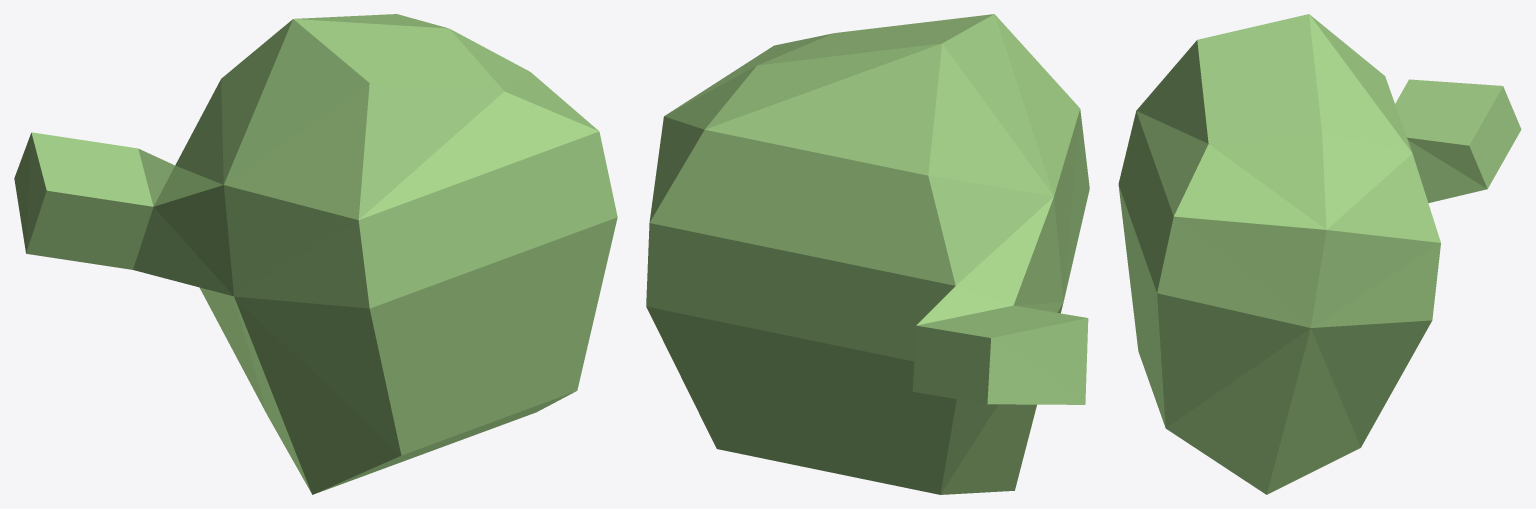
The picture shows the model from 3 angles, left to right: view 1: azimuth 30°, elevation 25°; view 2: azimuth 150°, elevation 25°; view 3: azimuth 270°, elevation 25°; orthographic projection. The views are drawn at different scales.
Parts seen in each view (by area): view 1: Cube; view 2: Cube; view 3: Cube.
Boxes of the visible parts, box(x1,y1,x2,y2) form: Cube: box(14, 14, 617, 494); Cube: box(646, 14, 1089, 494); Cube: box(1118, 14, 1521, 494).
Bounding box in the file's own units: 7.58 × 6.46 × 6.95.
